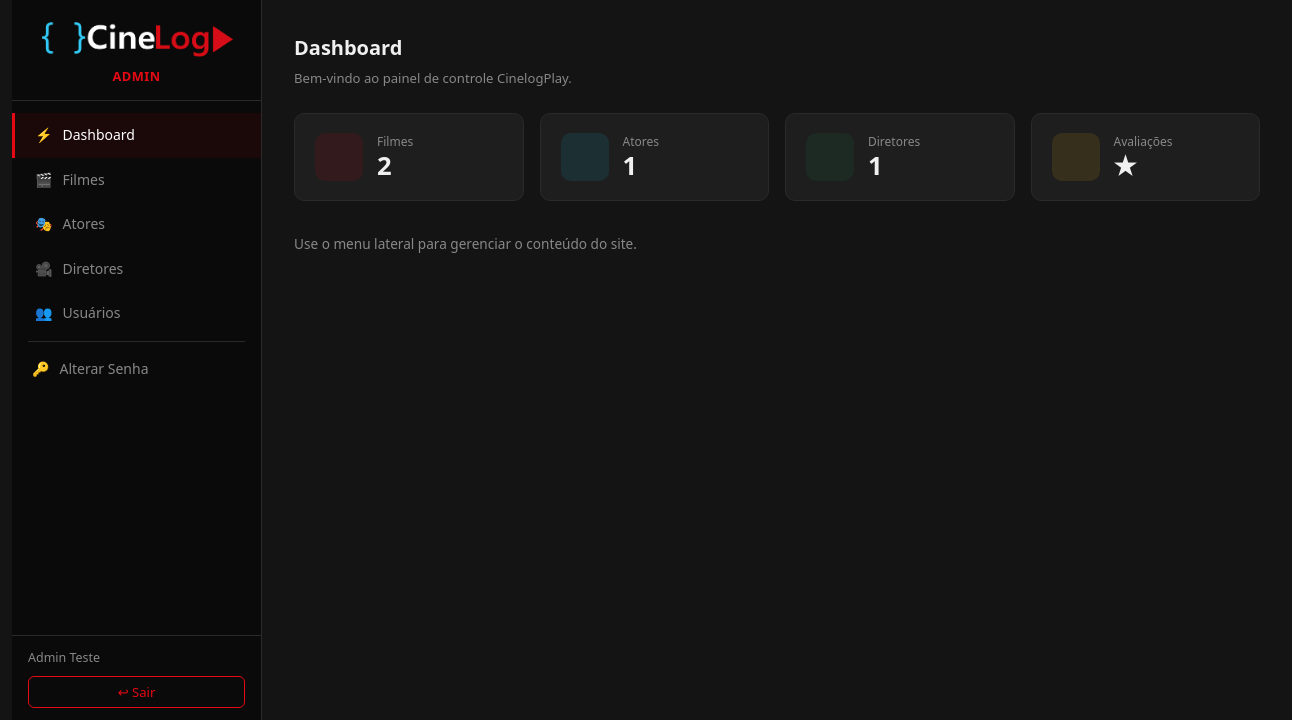
Scenario: Admin React — Navegação › navega para /admin/filmes via sidebar
Click the link "🎬 Filmes".
click(70, 180)  # box [35,170,105,189]
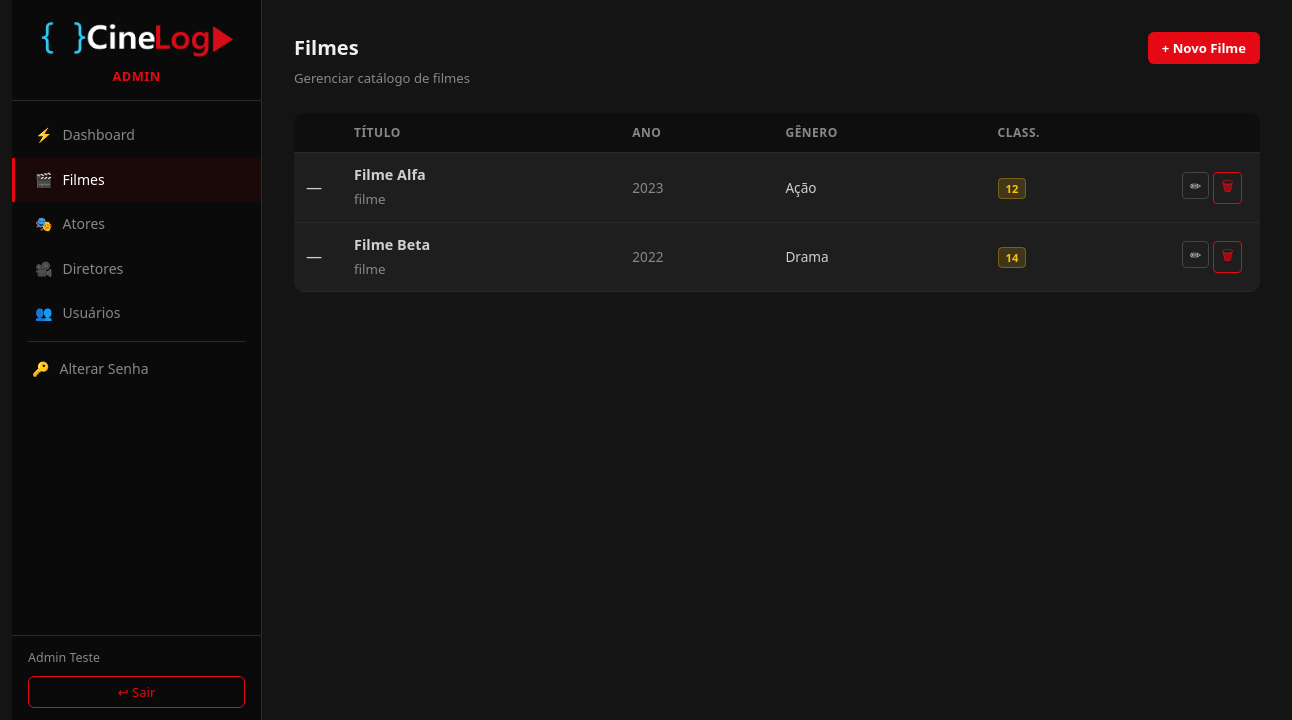
Now the heading "Filmes" is shown, box [294,34,359,61]
